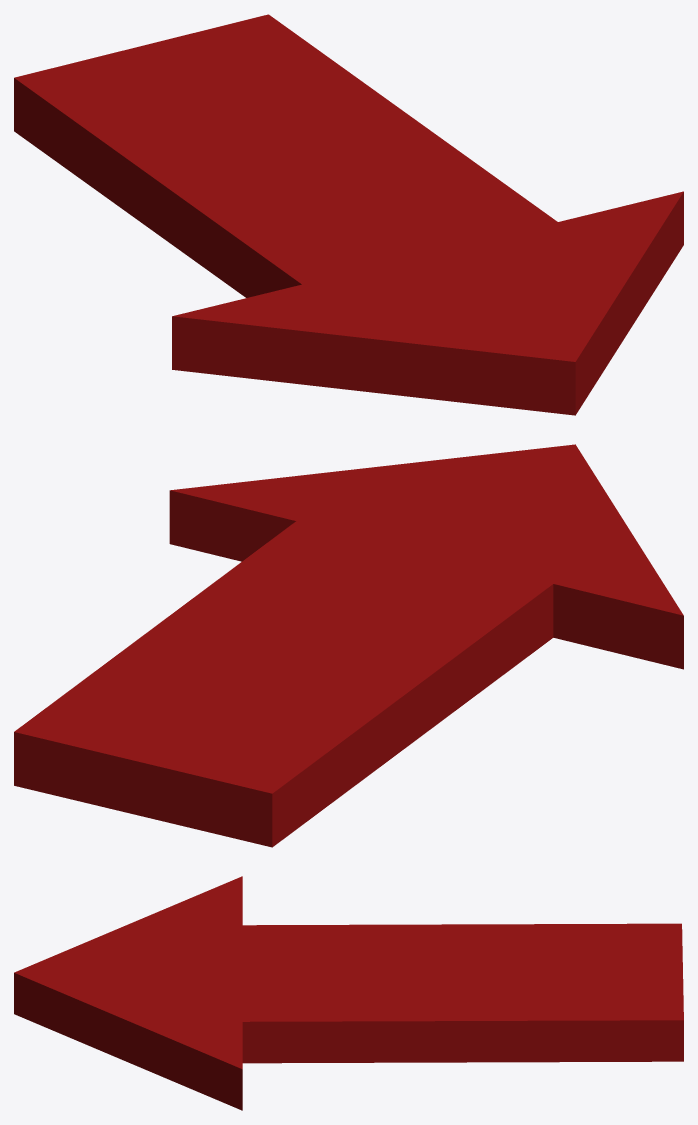
The model's file is arrow.fbx.
The picture shows the model from 3 angles, top to bottom: view 1: azimuth 30°, elevation 25°; view 2: azimuth 150°, elevation 25°; view 3: azimuth 270°, elevation 25°; orthographic projection. The views are drawn at different scales.
Visible parts, largest first — view 1: Arrow; view 2: Arrow; view 3: Arrow.
Boxes of the visible parts, x1,y1,x2,y2 form: Arrow: [14, 14, 683, 415]; Arrow: [14, 444, 683, 847]; Arrow: [14, 876, 683, 1110].
Bounding box in the file's own units: 10 × 1 × 14.65.
